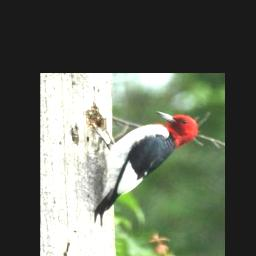Woodpecker: (95, 110, 199, 224)
